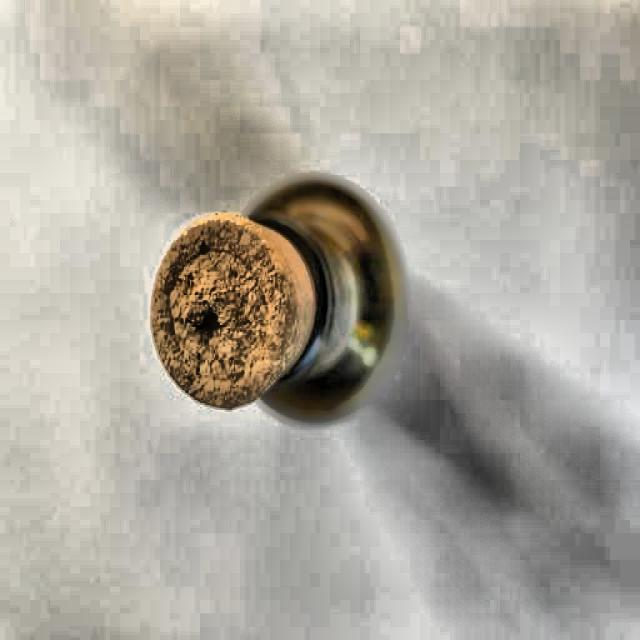glass: (161, 172, 410, 431)
